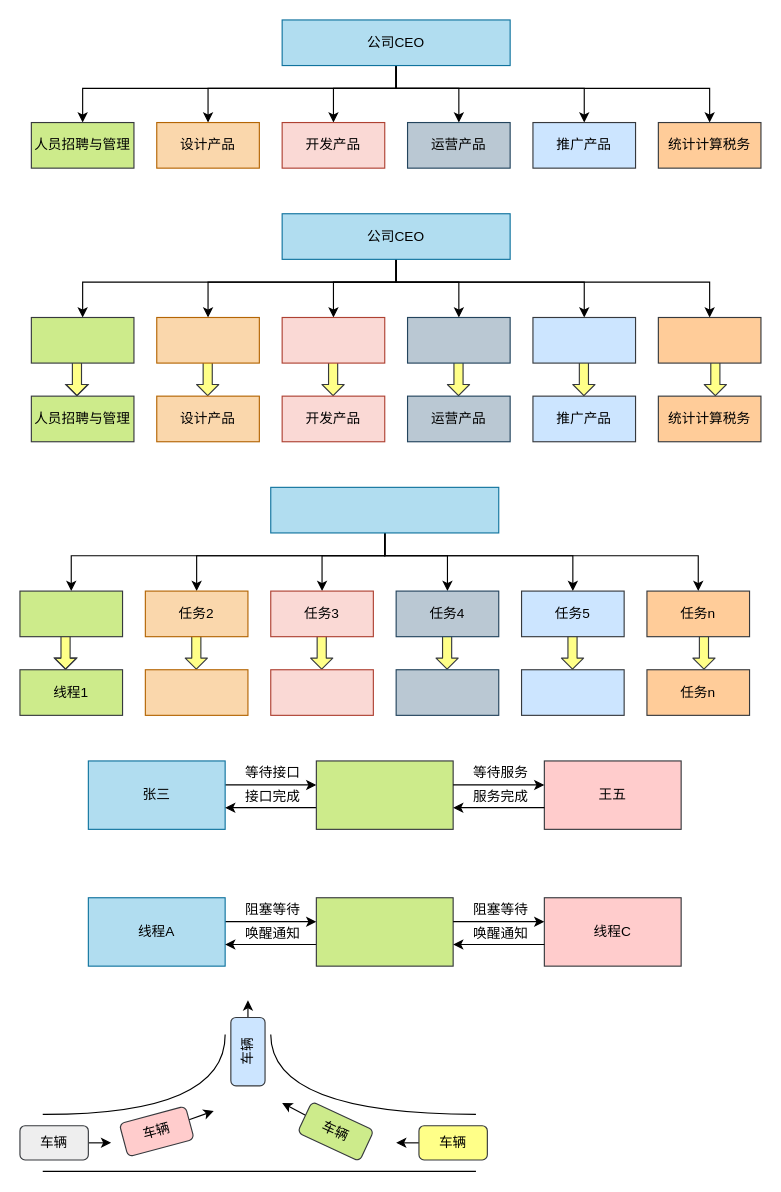
The diagram is 781 pixels wide and 1192 high, and some of its shapes have lost their labels. The centre of each missing label's shape, as x and y in pixels:
一个大任务: point (384, 509)
人力资源部: point (82, 339)
任务1: point (71, 613)
市场部: point (584, 339)
李四: point (384, 794)
研发部: point (333, 339)
线程2: point (196, 692)
线程3: point (321, 692)
线程4: point (447, 692)
线程5: point (572, 692)
线程B: point (384, 931)
设计部: point (207, 339)
财务部: point (709, 339)
运营部: point (458, 339)
